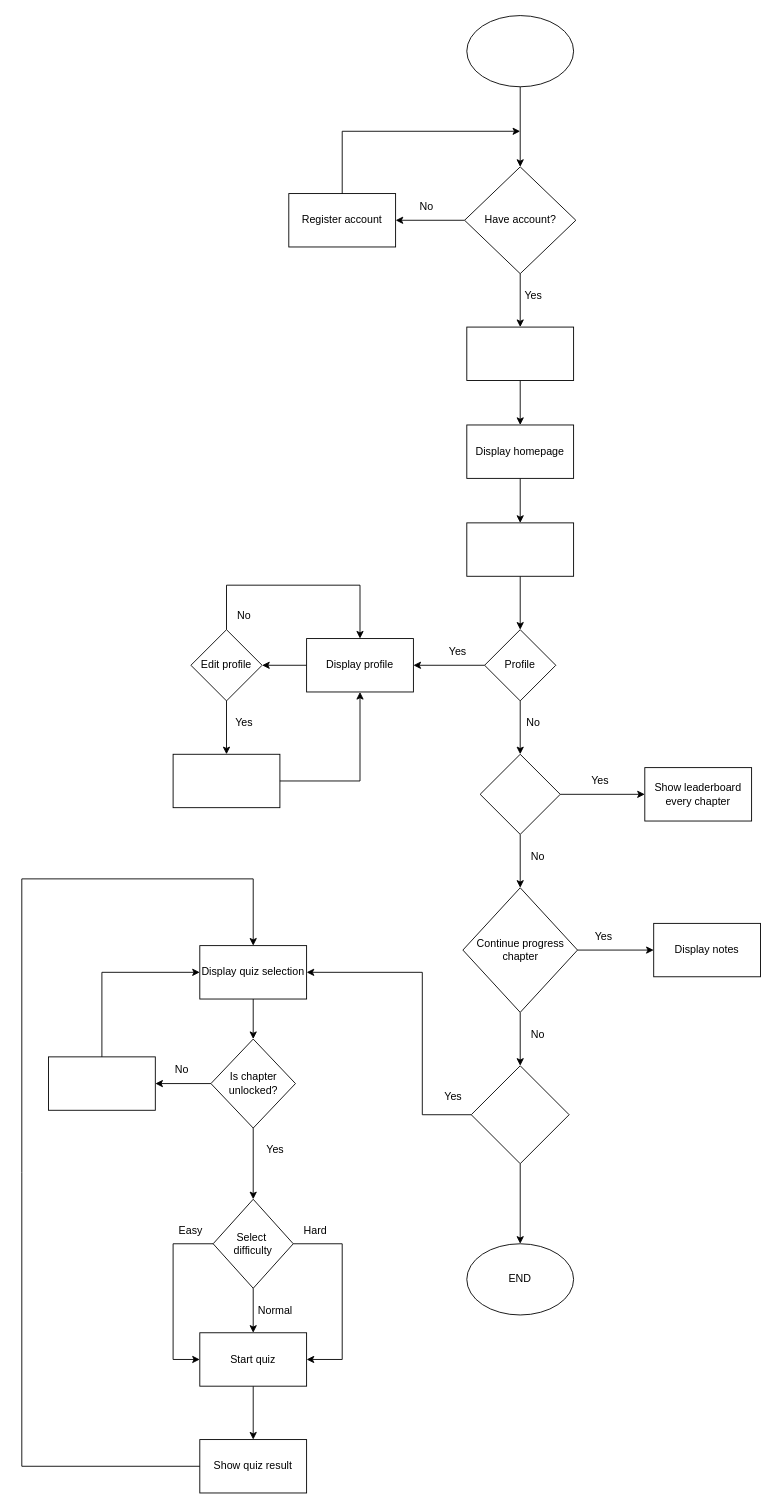
This 776x1509 diagram has some shape labels left out. Here are the shapes that lost their labels. From the top down, the box of each, then its label:
(466, 15, 574, 87): START
(466, 326, 574, 380): Login account
(466, 522, 574, 576): Load progress data and show leaderboard
(172, 753, 280, 808): Save profile update
(479, 753, 560, 834): Leaderboard
(48, 1056, 155, 1110): Show locked message
(470, 1065, 569, 1164): Quiz
